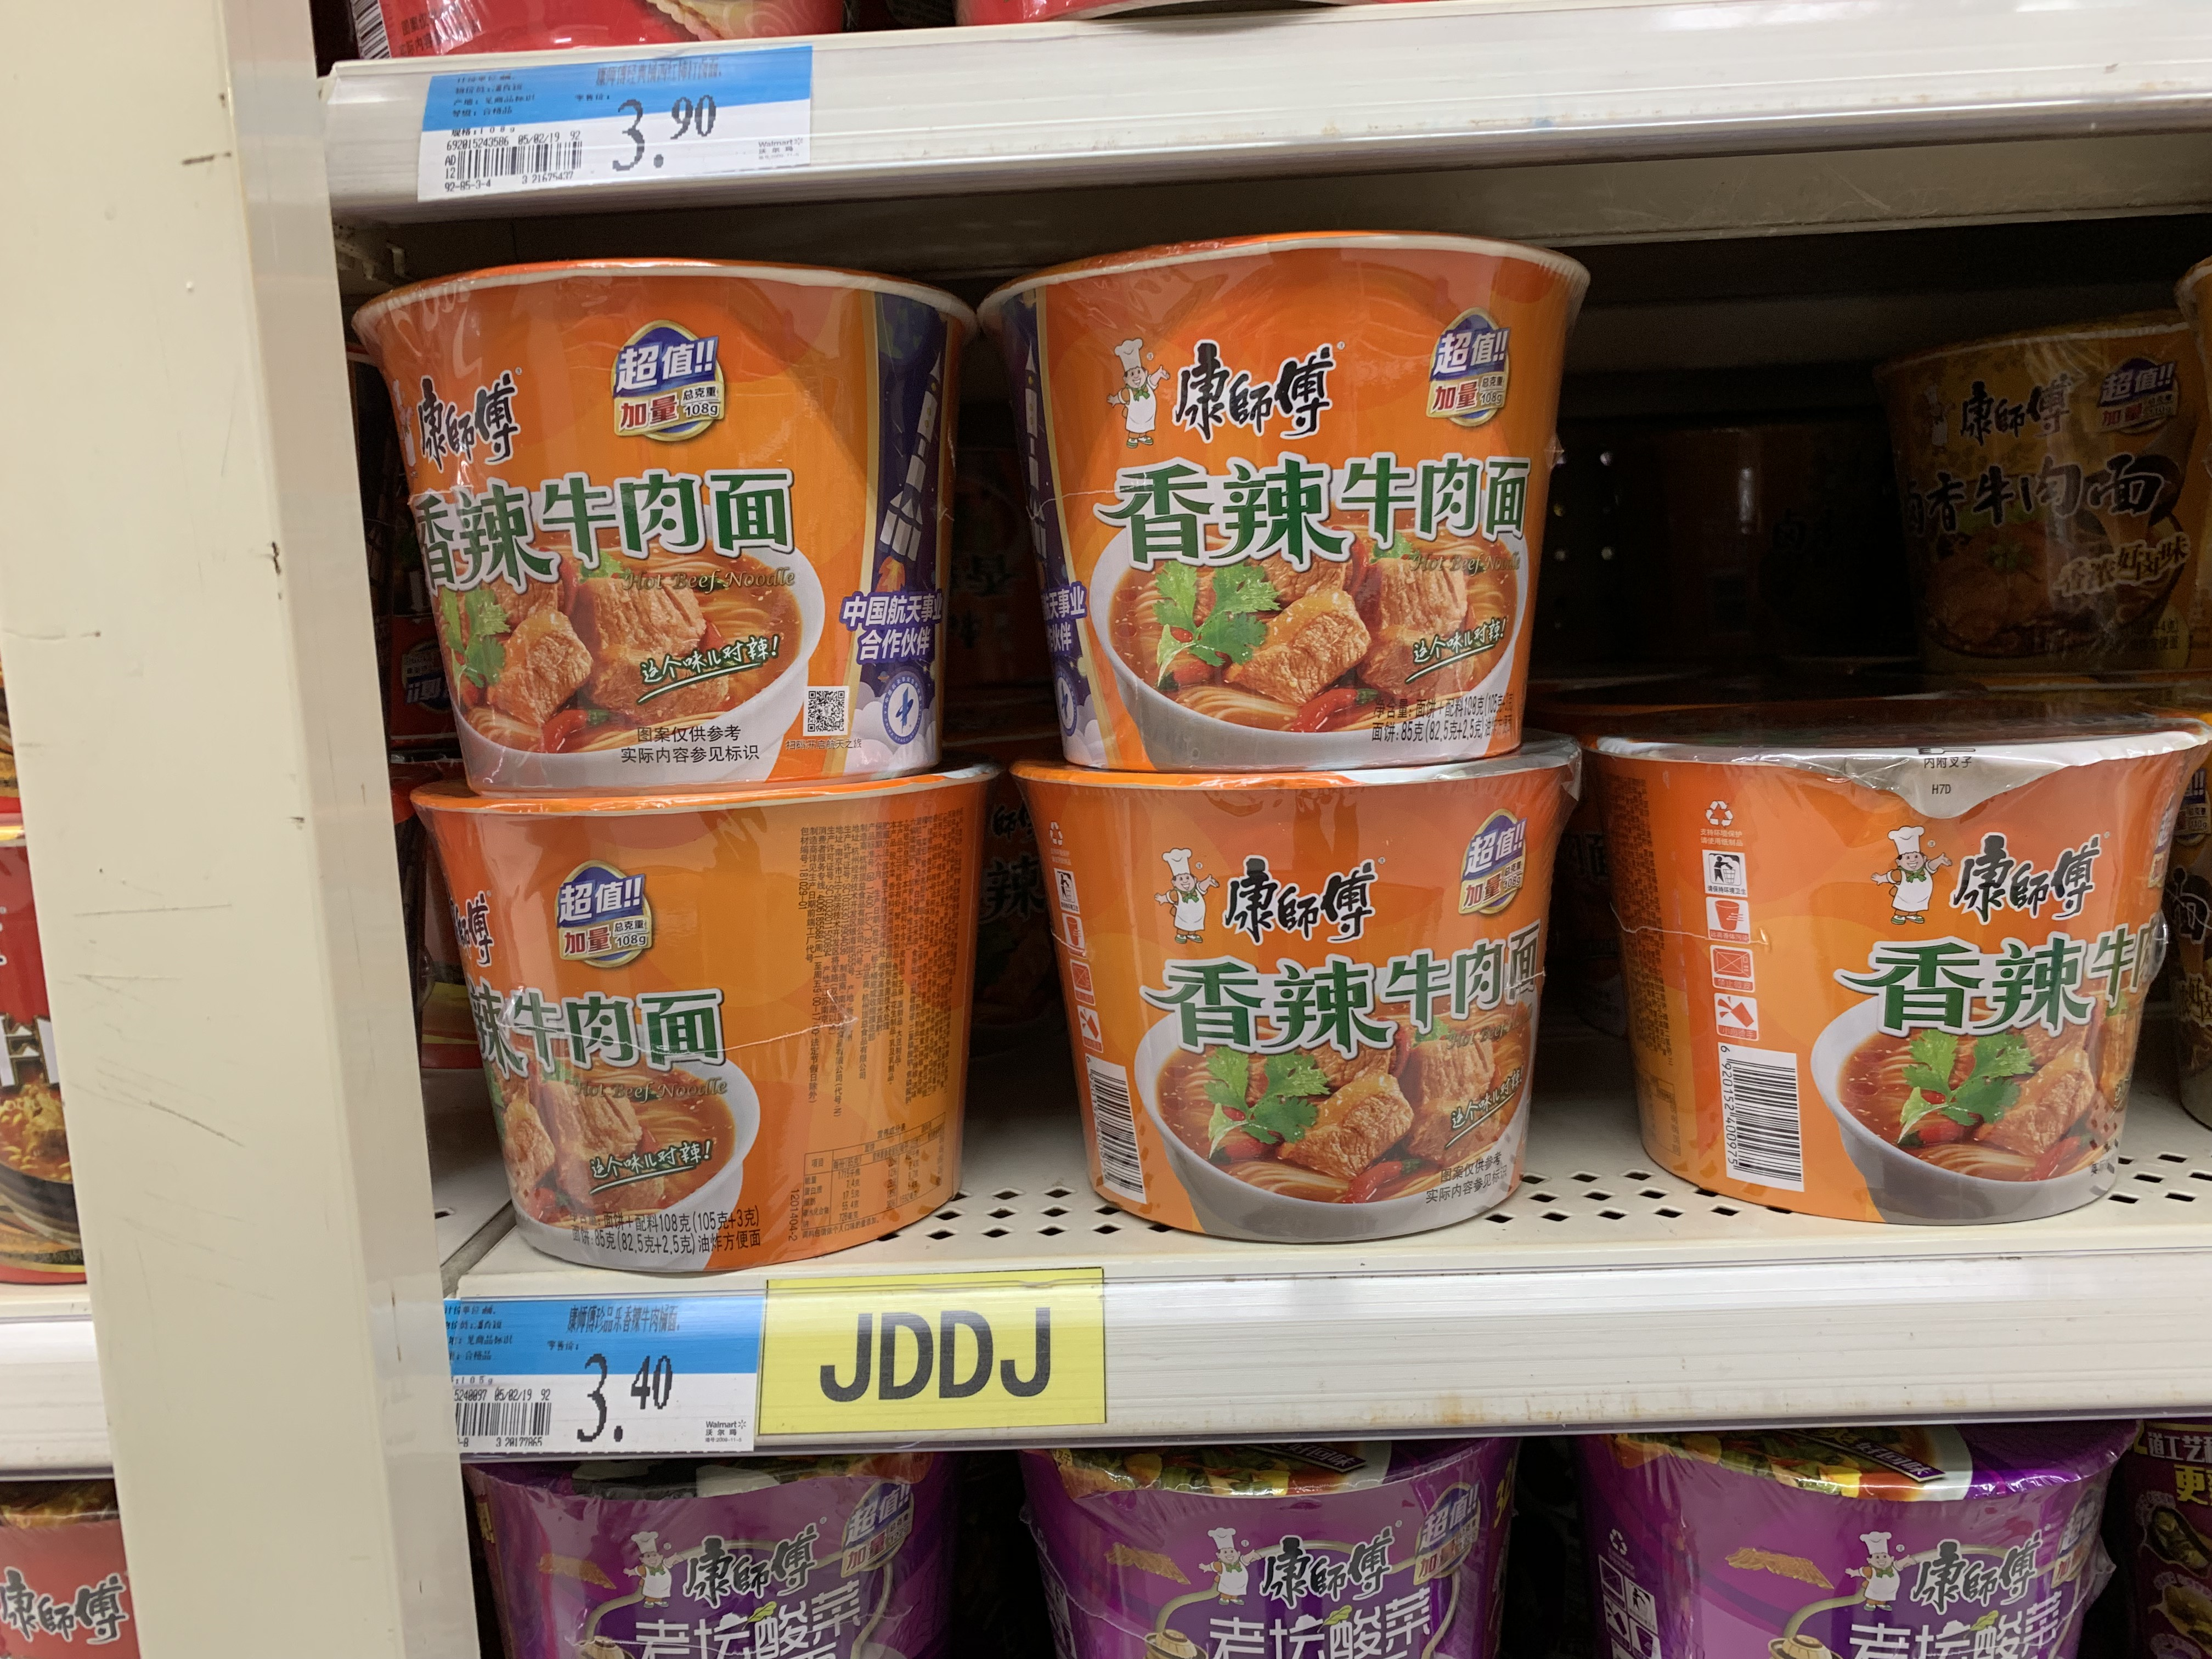luxiang: (1867, 315, 2212, 683)
xiangla: (1581, 687, 2212, 1229), (350, 256, 974, 796), (975, 230, 1594, 772), (418, 796, 998, 1279), (1008, 772, 1588, 1248)
